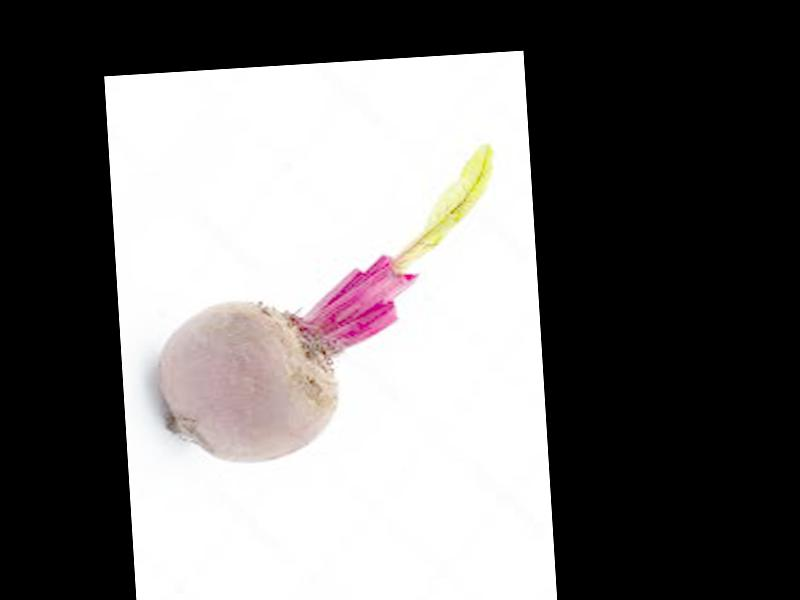Beet: (146, 146, 510, 468)
